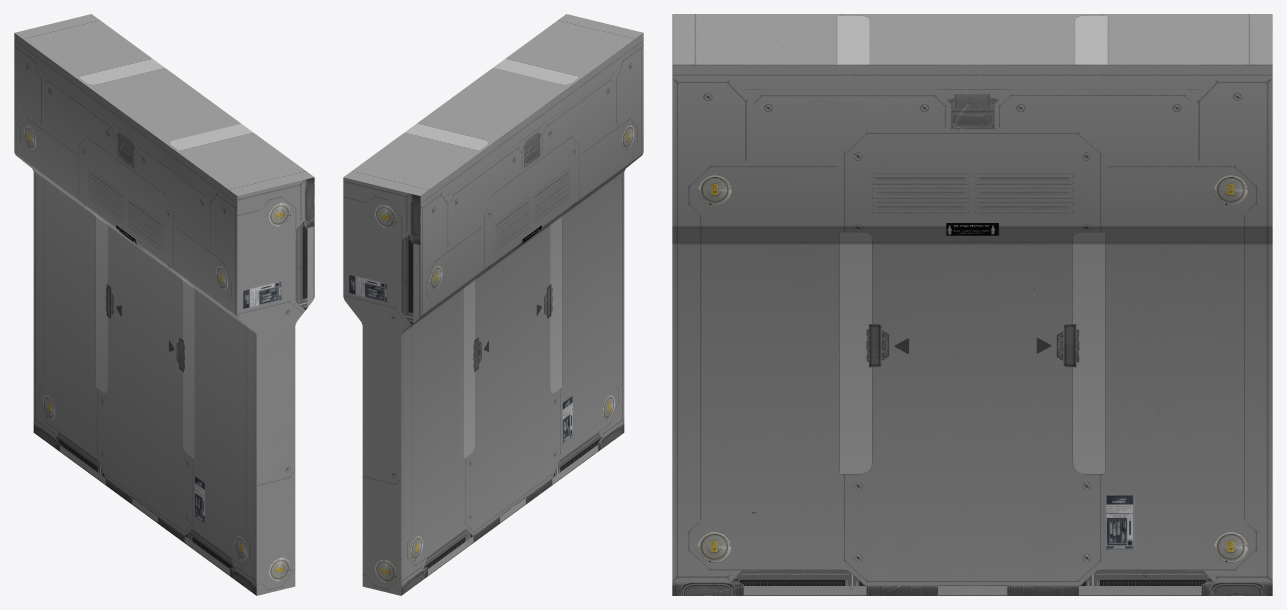
Rendered from SM_Walltype2c.fbx.
The picture shows the model from 3 angles, left to right: view 1: azimuth 30°, elevation 25°; view 2: azimuth 150°, elevation 25°; view 3: azimuth 270°, elevation 25°; orthographic projection. The views are drawn at different scales.
Parts seen in each view (by area): view 1: SM_Walltype2c_LOD0; view 2: SM_Walltype2c_LOD0; view 3: SM_Walltype2c_LOD0.
Part boxes in pixels (box(x1,y1,x2,y2)): SM_Walltype2c_LOD0: box(14, 14, 314, 595); SM_Walltype2c_LOD0: box(343, 14, 643, 595); SM_Walltype2c_LOD0: box(672, 14, 1272, 595).
Size of the model in its own units: 80 by 400 by 400.
1 material, 1 textured.
